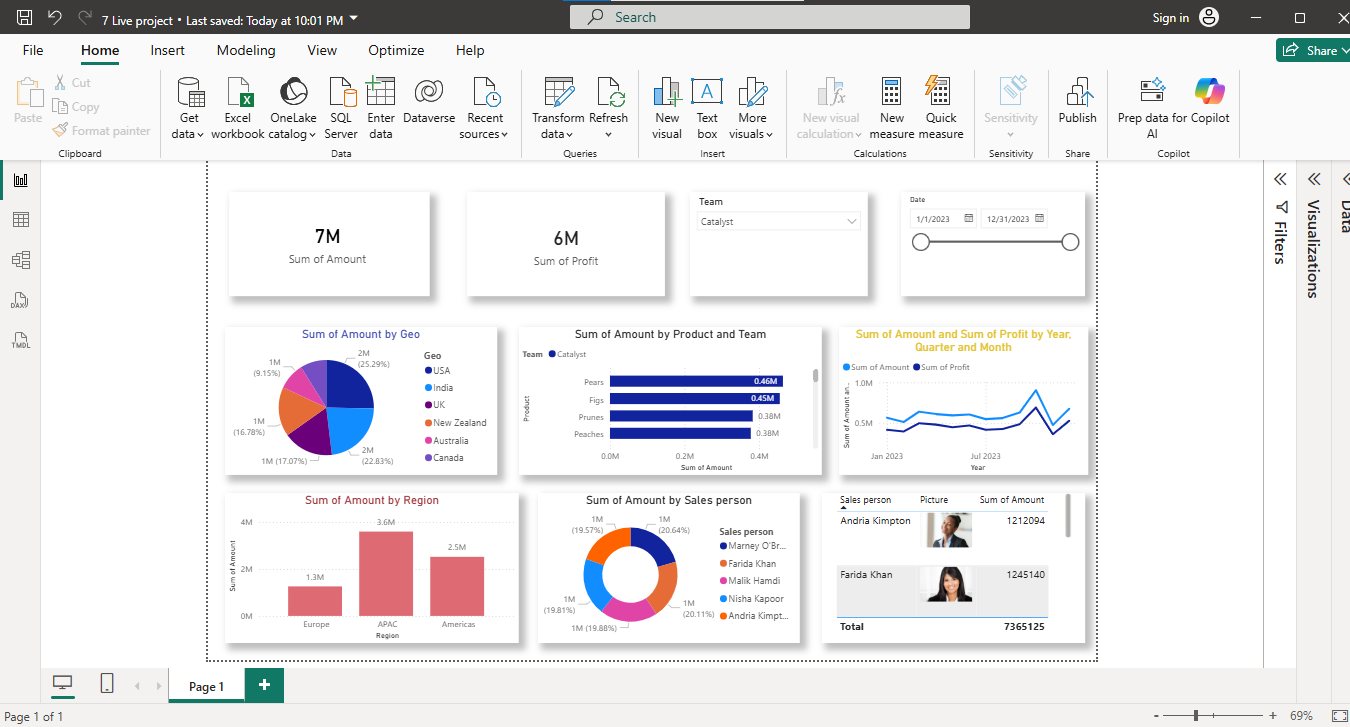

What the dashboard file says about the page in this screenshot:
{"tool":"powerbi","page":{"name":"Page 1","canvas":[1280,720],"ordinal":0},"visuals":[{"type":"clusteredColumnChart","fields":{"Category":["Locations.Region"],"Y":["Sum(sales.Amount)"]},"box":[24.5,479.5,423.4,216],"z":0},{"type":"tableEx","fields":{"Values":["EmployeeData.Sales person","EmployeeData.Picture","Sum(sales.Amount)"]},"box":[884.2,479.5,378.7,216],"z":1000},{"type":"barChart","fields":{"Category":["sales.Product"],"Series":["EmployeeData.Team"],"Y":["Sum(sales.Amount)"]},"box":[447.8,240.5,436.3,213.1],"z":2000},{"type":"pieChart","fields":{"Y":["Sum(sales.Amount)"],"Category":["Locations.Geo"]},"box":[24.5,240.5,391.7,213.1],"z":3000},{"type":"donutChart","fields":{"Category":["EmployeeData.Sales person"],"Y":["Sum(sales.Amount)"]},"box":[475.2,479.5,377.3,216],"z":4000},{"type":"lineChart","fields":{"Category":["sales.Date.Variation.Date Hierarchy.Year","sales.Date.Variation.Date Hierarchy.Quarter","sales.Date.Variation.Date Hierarchy.Month","sales.Date.Variation.Date Hierarchy.Day"],"Y":["Sum(sales.Amount)","Sum(sales.Profit)"]},"box":[908.6,240.5,358.6,213.1],"z":5000},{"type":"card","fields":{"Values":["Sum(sales.Amount)"]},"box":[30.2,46.1,289.4,149.8],"z":6000},{"type":"card","fields":{"Values":["Sum(sales.Profit)"]},"box":[373,46.1,285.1,149.8],"z":7000},{"type":"slicer","fields":{"Values":["sales.Date"]},"box":[997.9,46.1,265,149.8],"z":8000},{"type":"slicer","fields":{"Values":["EmployeeData.Team"]},"box":[694.1,46.1,256.3,149.8],"z":9000}]}

Visuals, with their boxes on the page's 1280x720 design canvas (x1, y1, x2, y2). These are canvas units, not pixel positions in the 1350x727 screenshot, which may show the page scaled, cropped or inside an application window:
clusteredColumnChart - Locations.Region x Sum(sales.Amount): (24,480,448,696)
tableEx - EmployeeData.Sales person x EmployeeData.Picture: (884,480,1263,696)
barChart - sales.Product x EmployeeData.Team: (448,240,884,454)
pieChart - Sum(sales.Amount) x Locations.Geo: (24,240,416,454)
donutChart - EmployeeData.Sales person x Sum(sales.Amount): (475,480,852,696)
lineChart - sales.Date.Variation.Date Hierarchy.Year x sales.Date.Variation.Date Hierarchy.Quarter: (909,240,1267,454)
card - Sum(sales.Amount): (30,46,320,196)
card - Sum(sales.Profit): (373,46,658,196)
slicer - sales.Date: (998,46,1263,196)
slicer - EmployeeData.Team: (694,46,950,196)
